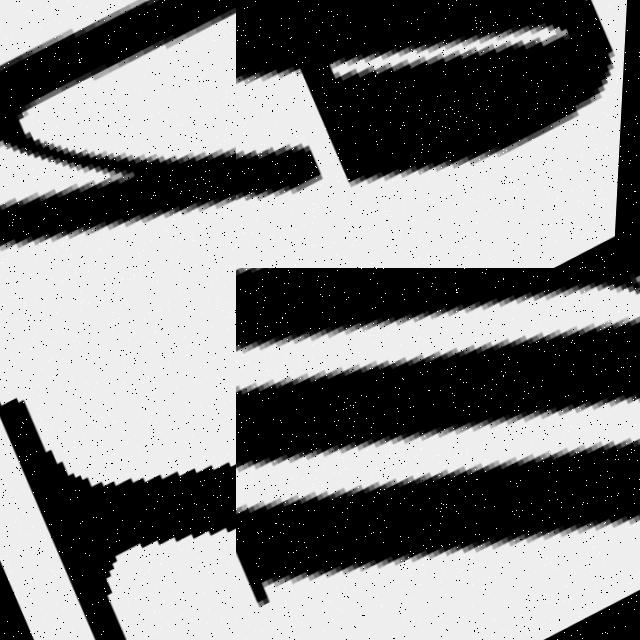1: (0, 268, 236, 640)
E: (236, 0, 618, 193)
M: (236, 268, 640, 640)
Y: (0, 0, 236, 268)
